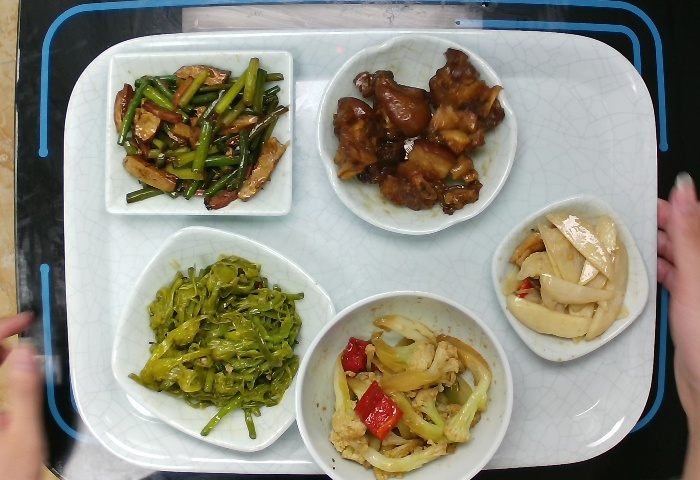JYsf-Ao_Yuan_Wan: (313, 30, 522, 239)
JYsf-Fan_Wan: (292, 286, 518, 480)
JYsf-Si_Fang_Die: (487, 190, 652, 367)
WCQzf-Da_Si_Fang_Die: (106, 221, 339, 456)
WCQzf-Ru_Ci_Si_Fang_Die: (100, 45, 299, 222)
